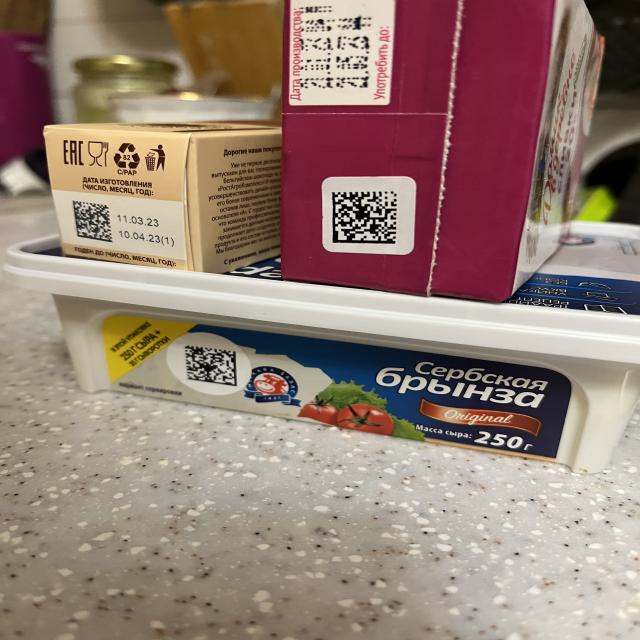datamatrix: (334, 192, 399, 245), (186, 346, 238, 387), (74, 202, 114, 244)
